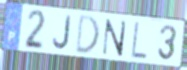2: (23, 8, 46, 52)
3: (155, 24, 178, 62)
D: (74, 13, 101, 55)
J: (52, 14, 73, 51)
L: (130, 20, 148, 61)
N: (101, 17, 128, 58)
